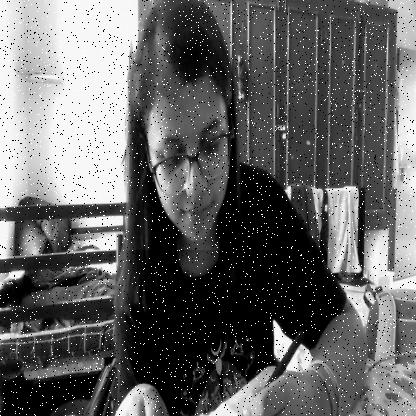Normal: (126, 0, 232, 250)
